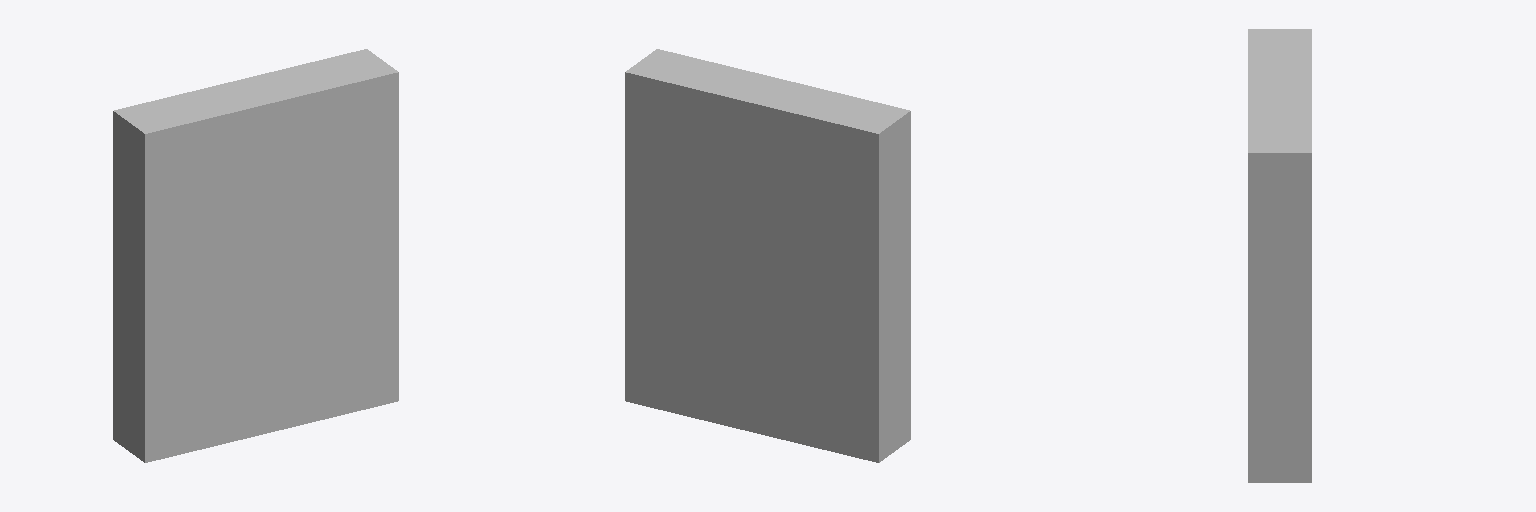
Rendered from Bookshelf_12.obj.
3 views of the same model, side by side, from view 1: azimuth 30°, elevation 25°; view 2: azimuth 150°, elevation 25°; view 3: azimuth 270°, elevation 25° (orthographic).
Parts seen in each view (by area): view 1: Bookshelf_12_Cube.163; view 2: Bookshelf_12_Cube.163; view 3: Bookshelf_12_Cube.163.
Part boxes in pixels (x1,y1,x2,y2): Bookshelf_12_Cube.163: (113,49,398,462); Bookshelf_12_Cube.163: (625,49,910,462); Bookshelf_12_Cube.163: (1248,29,1311,482).
Bounding box in the file's own units: 1.3 × 1.61 × 0.2844.